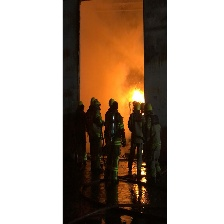fire: (129, 87, 143, 103)
smoke: (82, 2, 146, 84)
